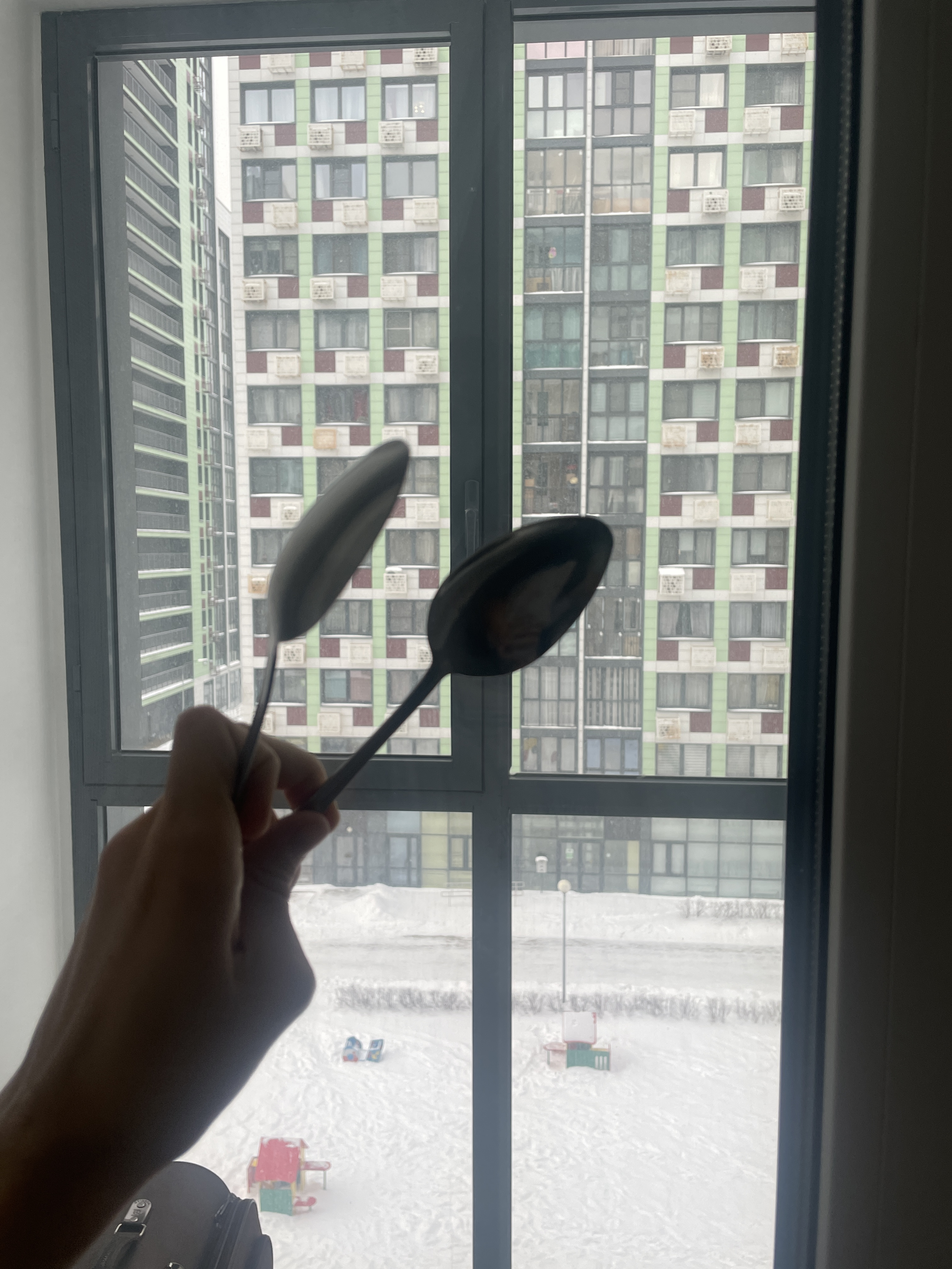spoon: (303, 516, 613, 812), (233, 440, 409, 802)
